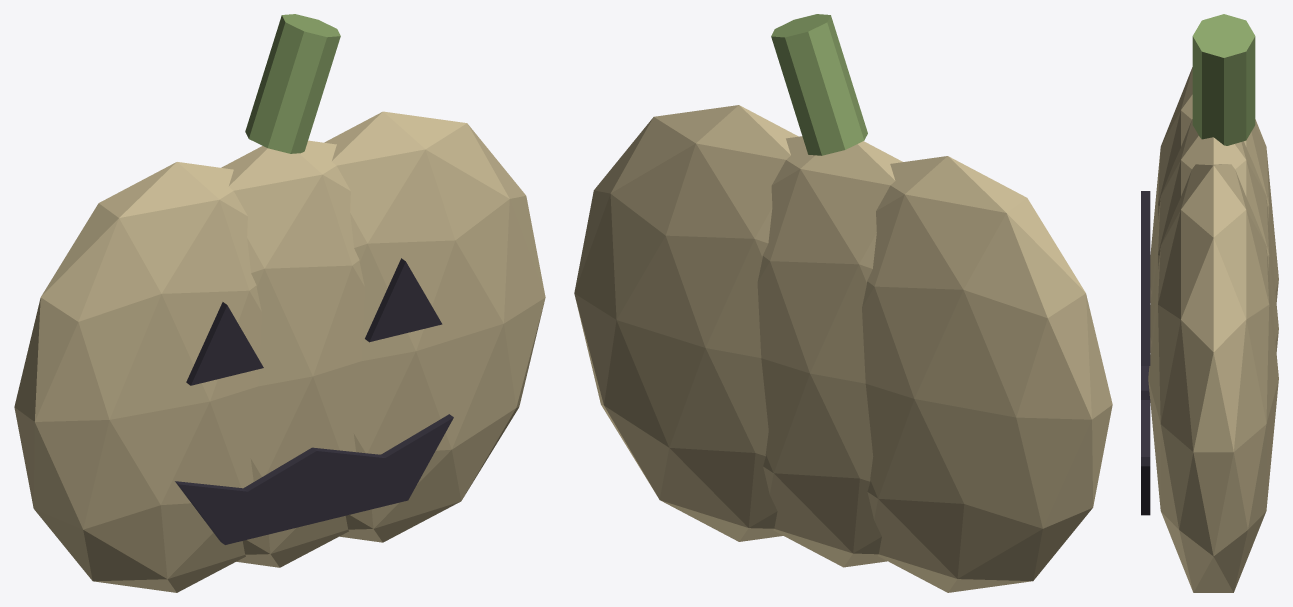
Rendered from pumpkin-comparisons.glb.
3 renders of one model, left to right at view 1: azimuth 30°, elevation 25°; view 2: azimuth 150°, elevation 25°; view 3: azimuth 270°, elevation 25°, orthographic. The views are drawn at different scales.
Visible parts, largest first — view 1: Pumpkin lobe.003, Carved eye.002, Pumpkin stem.001; view 2: Pumpkin lobe.003, Pumpkin stem.001; view 3: Pumpkin lobe.003, Pumpkin stem.001, Carved eye.002.
Part boxes in pixels (box(x1,y1,x2,y2)): Pumpkin lobe.003: box(14, 111, 545, 592); Carved eye.002: box(175, 258, 453, 544); Pumpkin stem.001: box(245, 14, 340, 153); Pumpkin lobe.003: box(574, 105, 1112, 592); Pumpkin stem.001: box(771, 14, 867, 155); Pumpkin lobe.003: box(1148, 67, 1278, 592); Pumpkin stem.001: box(1192, 14, 1255, 145); Carved eye.002: box(1141, 191, 1150, 515).
Bounding box in the file's own units: 0.0223 × 0.0225 × 0.00527.
